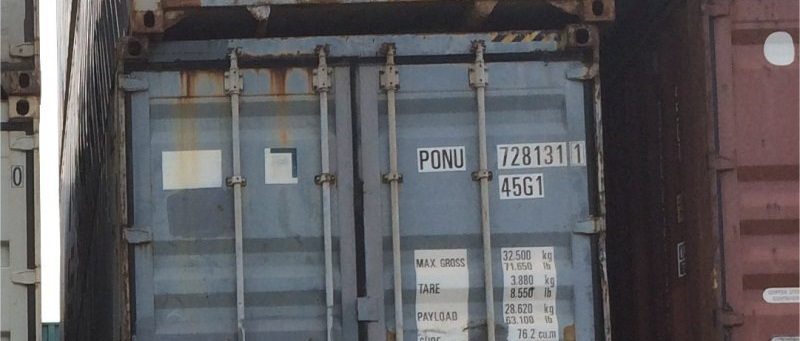container_door: (121, 30, 610, 341)
